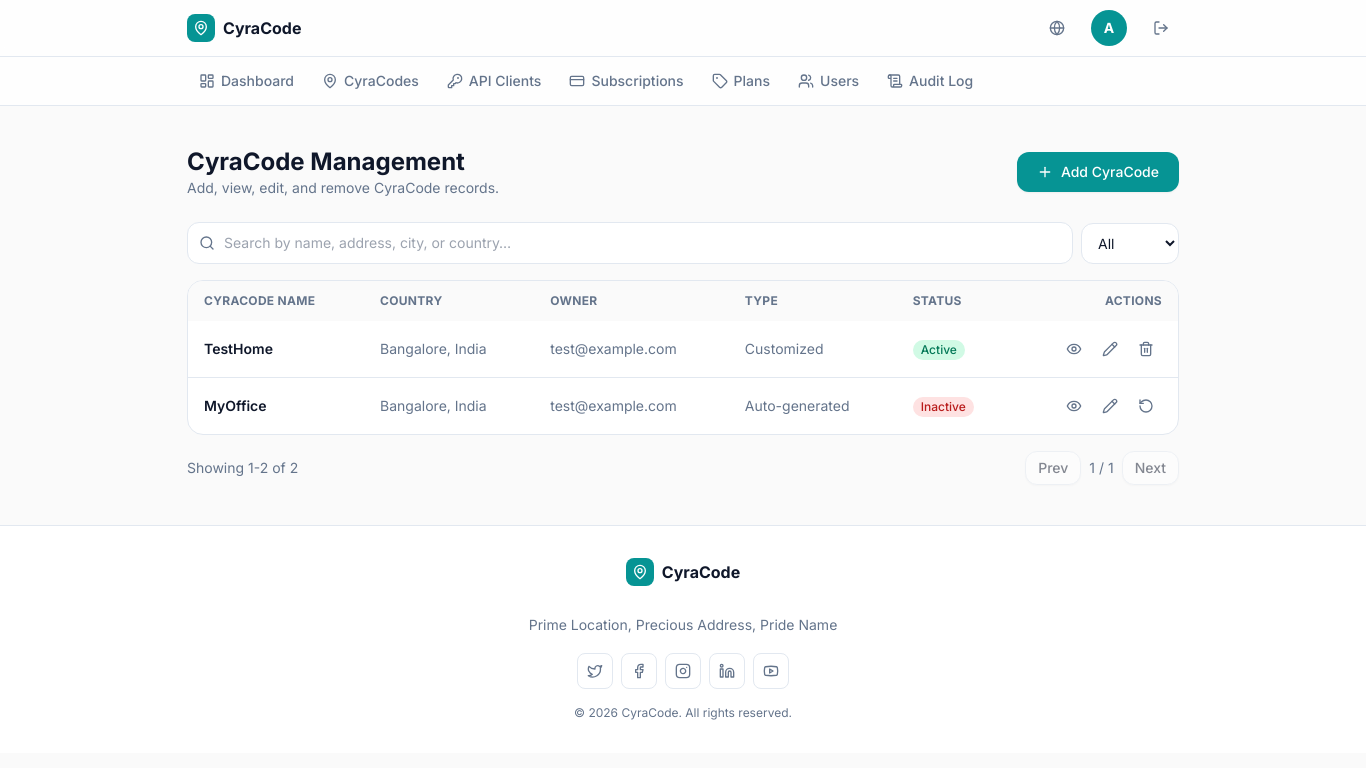
AdminCyraCodes › filters the list by search query
Check: the text "TestHome" is shown, box x1=188 y1=321 x2=364 y2=378
In the search field labelled "Search by name, address, city, or country…": (630, 243) x1=187 y1=222 x2=1073 y2=264, type "Office"
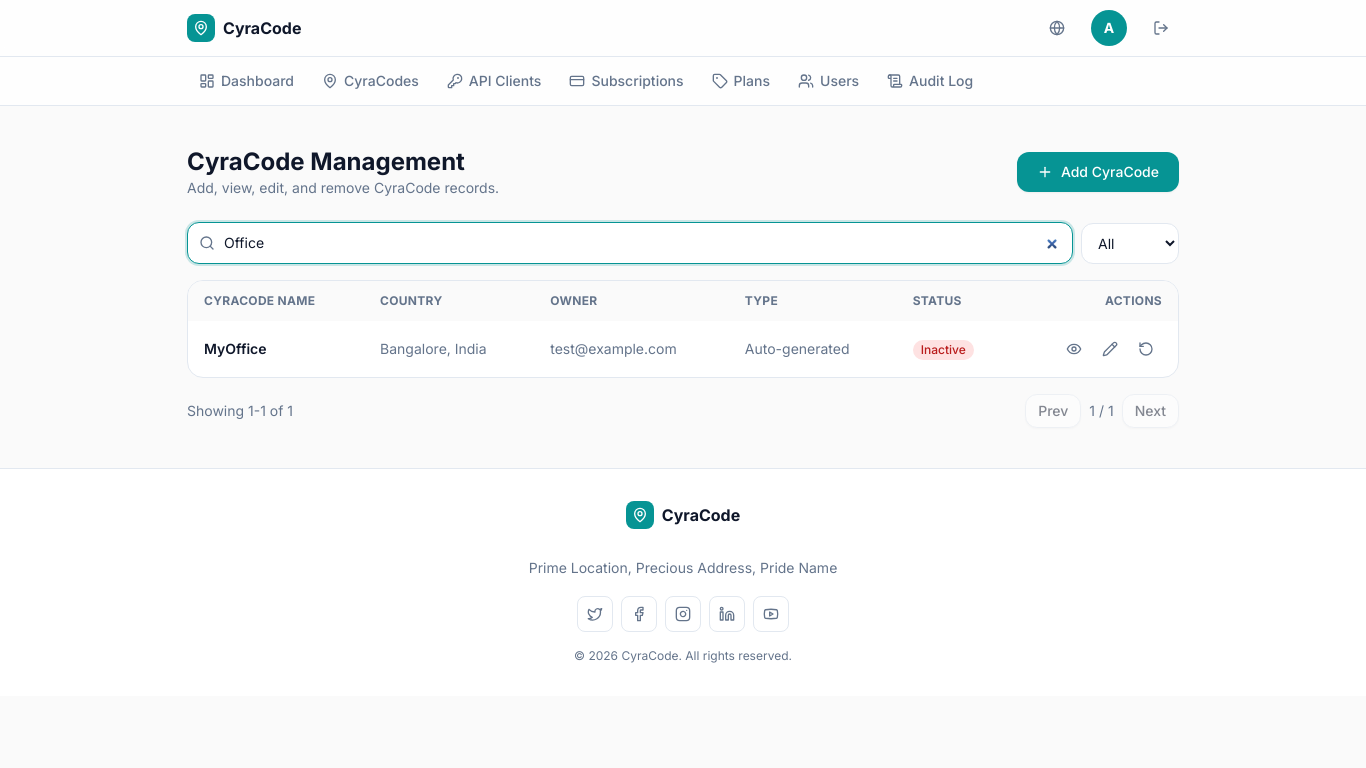
Check: the text "MyOffice" is shown, box x1=188 y1=321 x2=364 y2=377
Check: the text "TestHome" is gone
